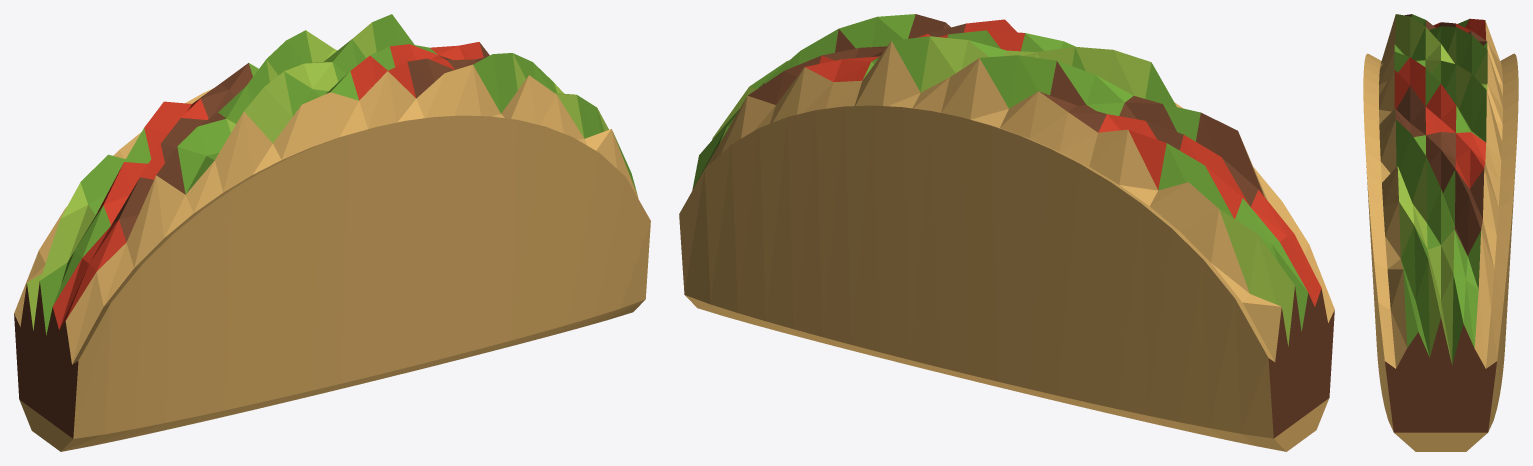
File: NEW_RECOVERY_059_LOD1.fbx
3 renders of one model, left to right at view 1: azimuth 30°, elevation 25°; view 2: azimuth 150°, elevation 25°; view 3: azimuth 270°, elevation 25°, orthographic. The views are drawn at different scales.
Visible parts, largest first — view 1: Whole taco; view 2: Whole taco; view 3: Whole taco.
Boxes of the visible parts, left/top/right/bottom form: Whole taco: left=14, top=14, right=650, bottom=451; Whole taco: left=679, top=14, right=1334, bottom=451; Whole taco: left=1363, top=14, right=1518, bottom=451.
Bounding box in the file's own units: 230 × 62 × 125.
